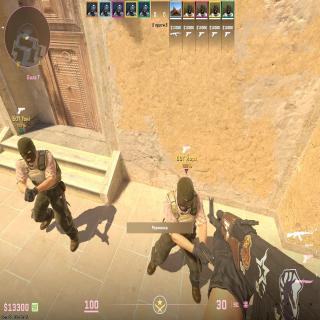T-Body: (158, 176, 208, 284), (17, 138, 62, 240)
T-Head: (177, 177, 195, 211), (18, 137, 36, 162)
